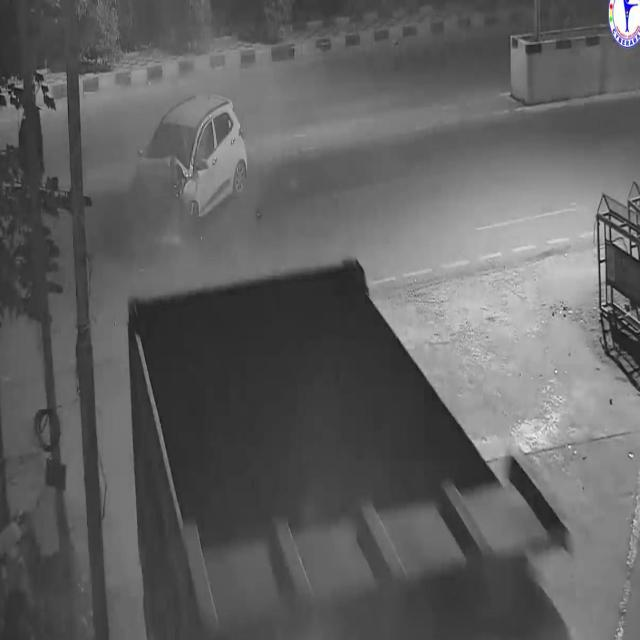accident: (121, 79, 255, 250)
